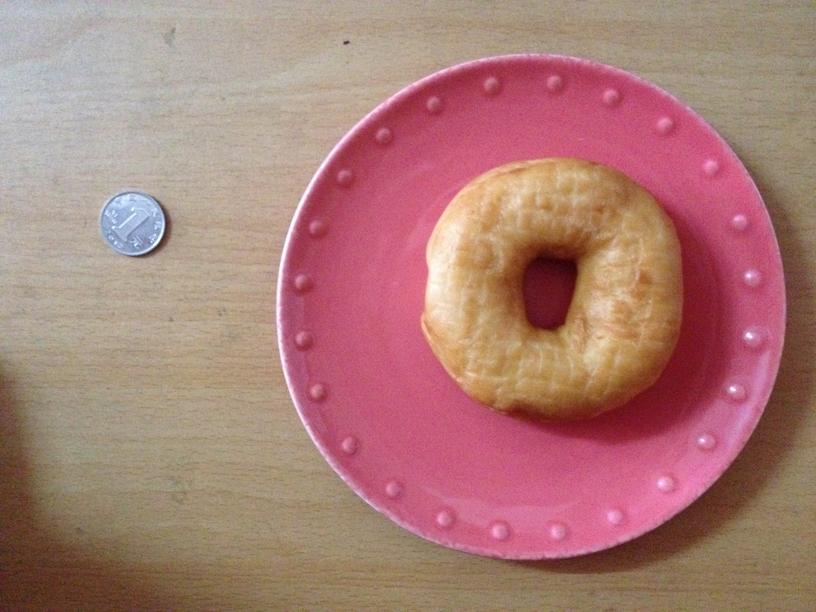coin: (422, 158, 684, 419)
doughnut: (422, 158, 684, 419)
